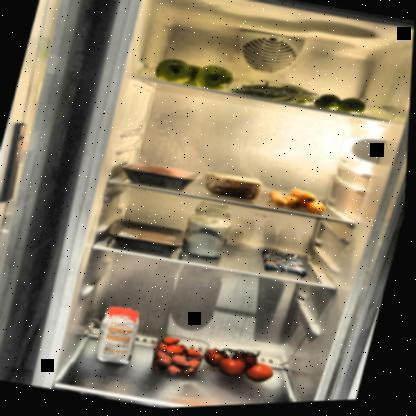apple: (149, 51, 241, 100)
carrot: (266, 183, 335, 221)
chicken: (108, 216, 188, 260)
chocolate: (259, 248, 316, 281)
green_beans: (226, 73, 320, 114)
ground_beef: (121, 158, 202, 197)
lime: (312, 91, 372, 122)
strawberries: (151, 333, 213, 384)
tomato: (200, 341, 285, 391)
